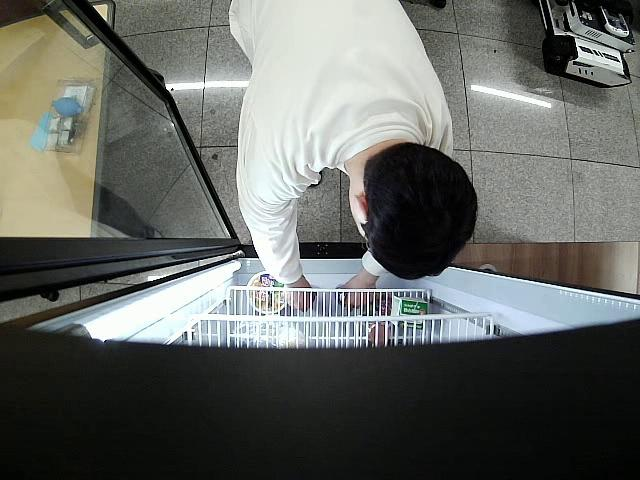00_hand: (342, 274, 375, 308)
